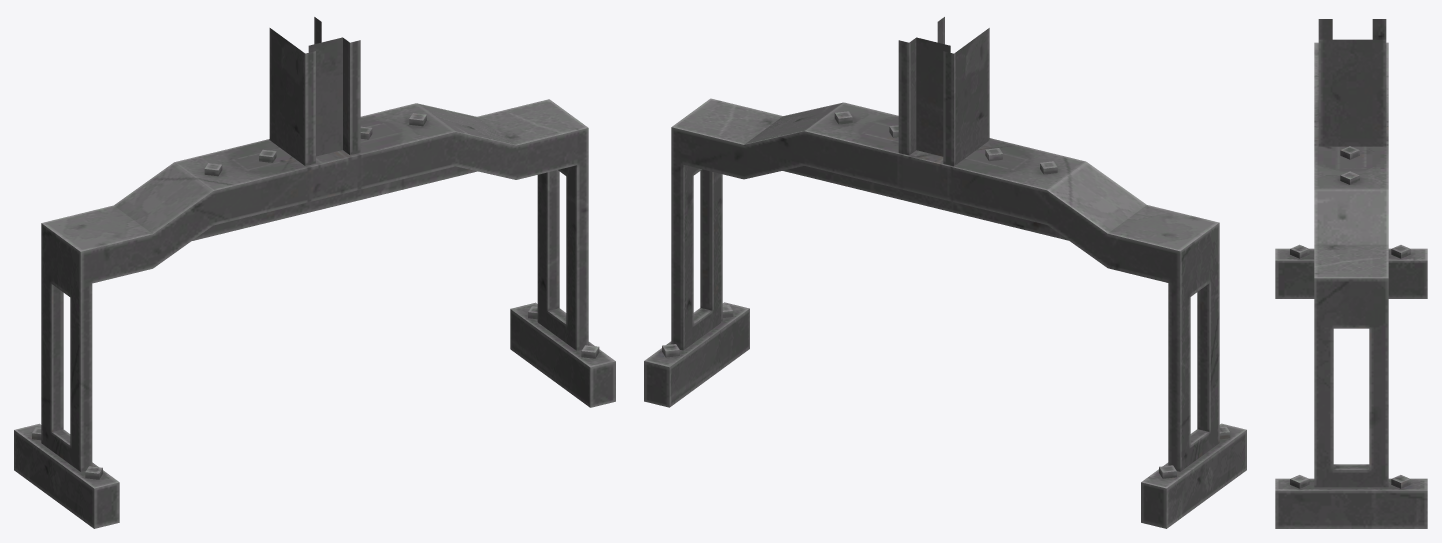
File: roller_to_roller.glb
The picture shows the model from 3 angles, left to right: view 1: azimuth 30°, elevation 25°; view 2: azimuth 150°, elevation 25°; view 3: azimuth 270°, elevation 25°; orthographic projection. The views are drawn at different scales.
Parts seen in each view (by area): view 1: roller_to_roller; view 2: roller_to_roller; view 3: roller_to_roller.
Boxes of the visible parts, bbox=[...] form: roller_to_roller: bbox=[14, 17, 615, 528]; roller_to_roller: bbox=[644, 17, 1246, 528]; roller_to_roller: bbox=[1275, 19, 1427, 528].
Bounding box in the file's own units: 0.9507 × 0.6993 × 0.2531.
Materials: 1 (1 with a texture image).
